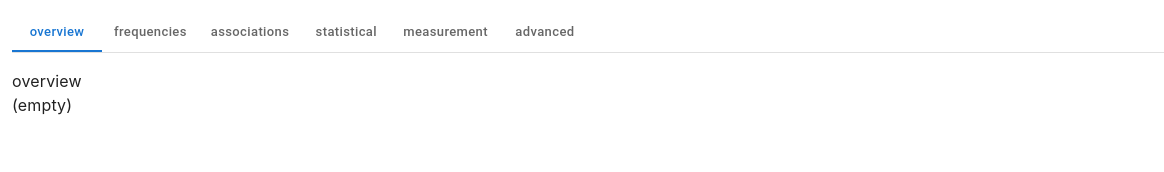
Scenario: Phase 7 workspace tab contracts › analysis groups tabs persist in the URL
expect the text with test id "tab-value" reads "overview": met, box [12,71,82,91]
What coordinates should you click on to do the following:
click the tab "frequencies"
I would click on:
 (150, 32)
Its box is [102,12,199,52].
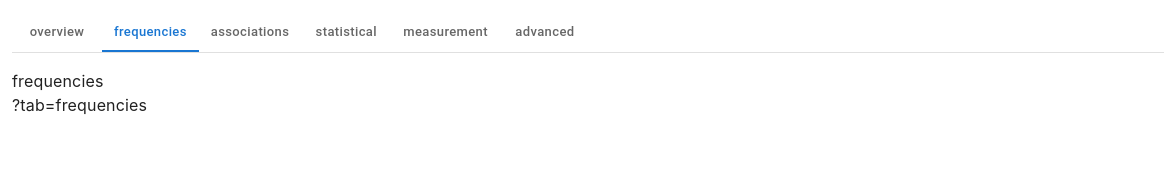
expect the text with test id "tab-value" reads "frequencies": met, box [12,71,104,91]
